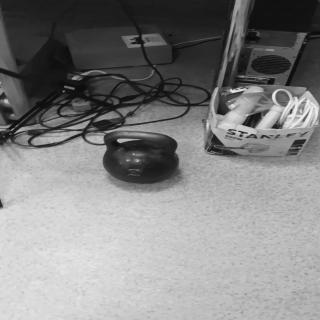girya: (105, 132, 181, 185)
